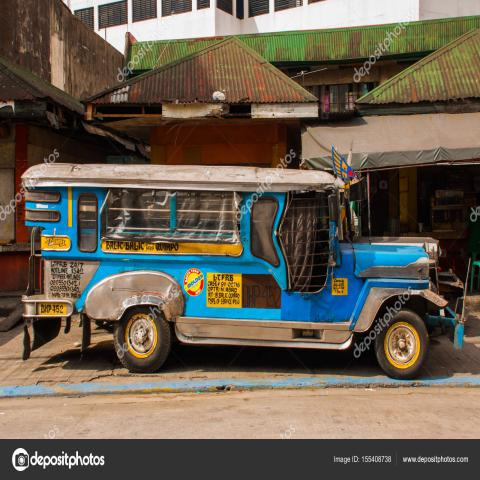truck: (26, 155, 467, 377)
